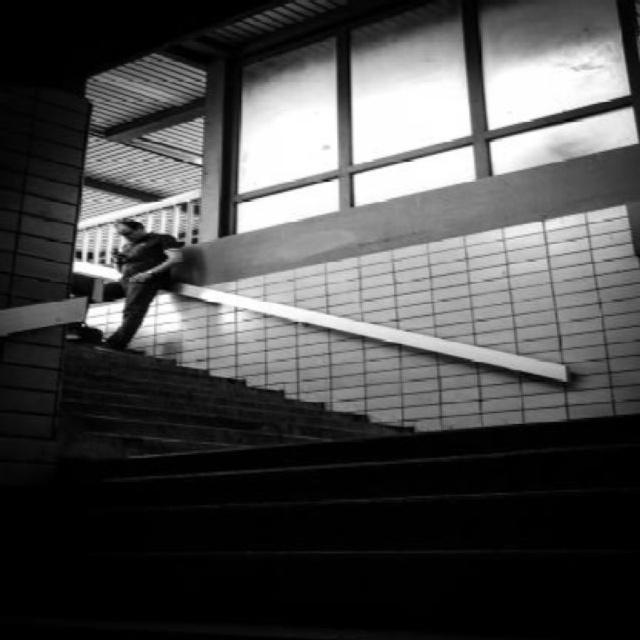stair: (0, 411, 640, 640), (58, 322, 432, 466)
